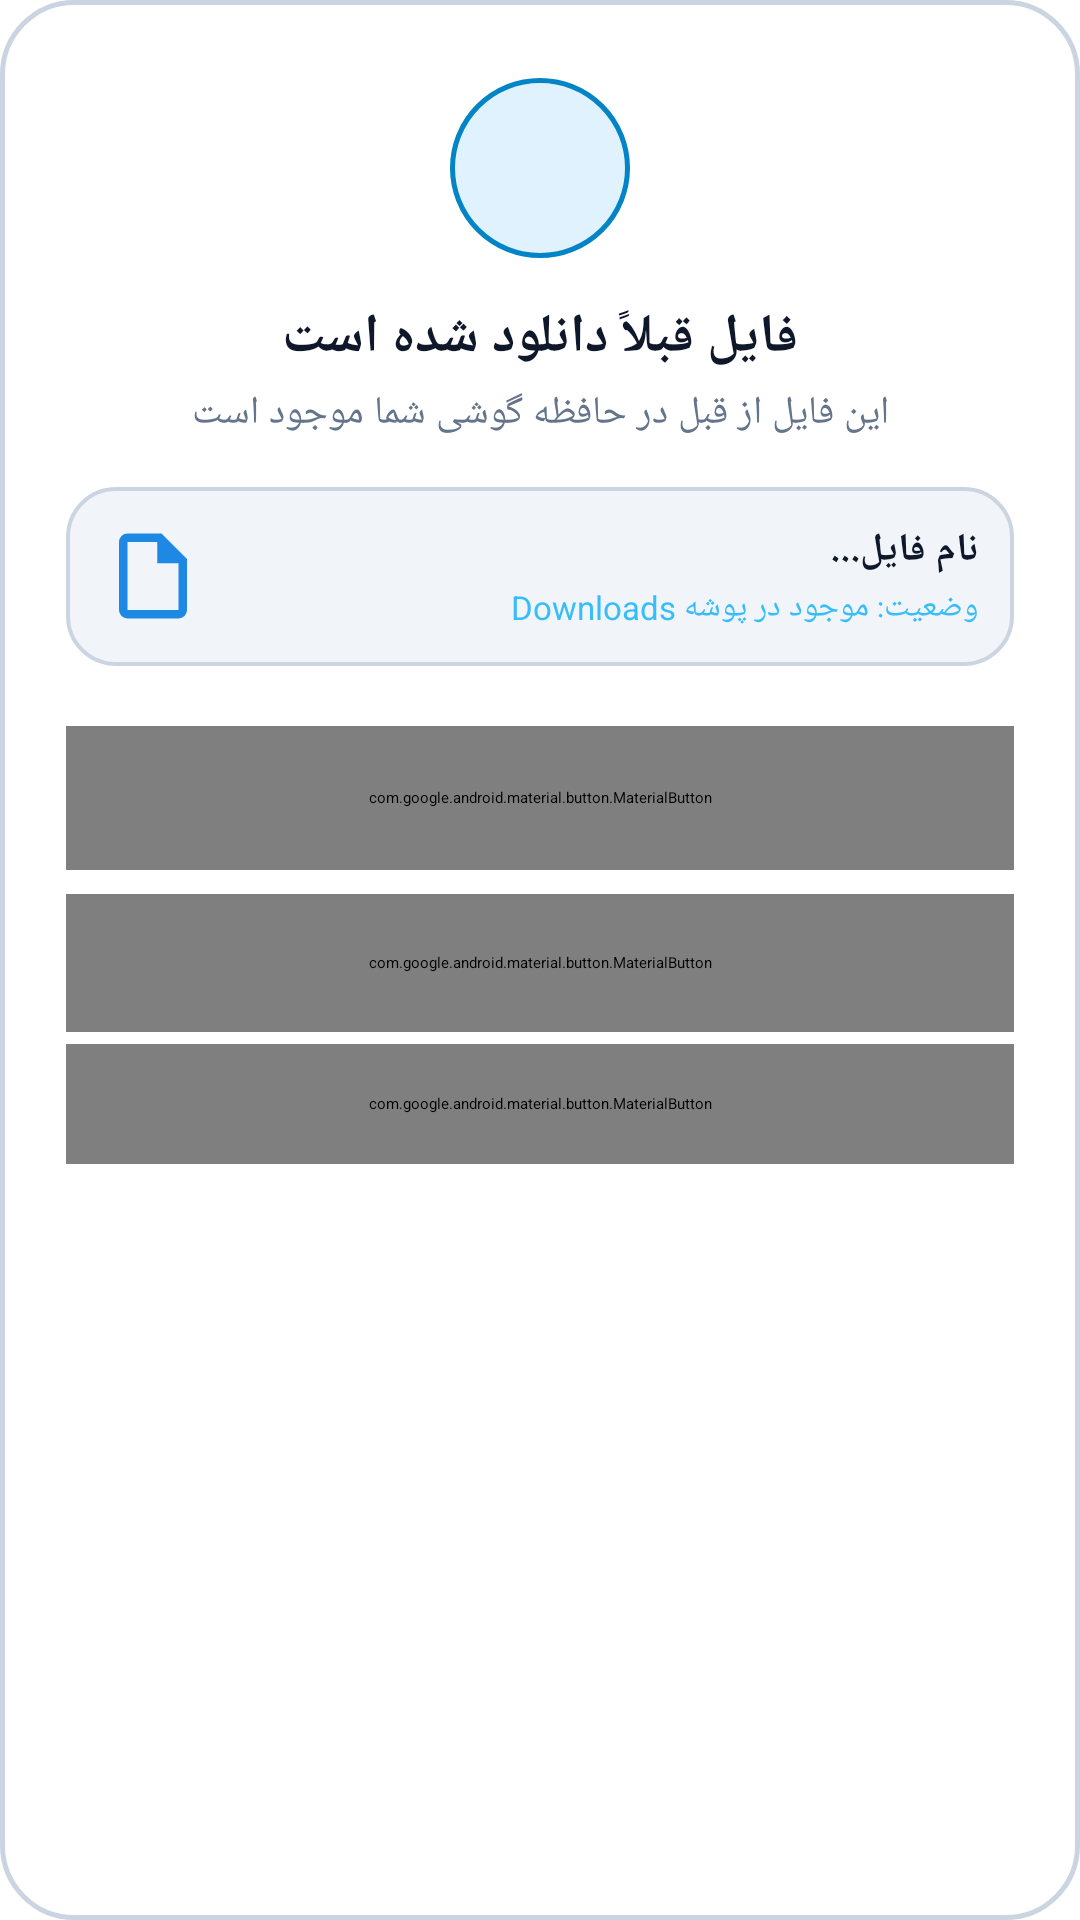

Icons on this 1080x1920 Android screen, each with the point to tap as (x,y):
file: (153,576)
